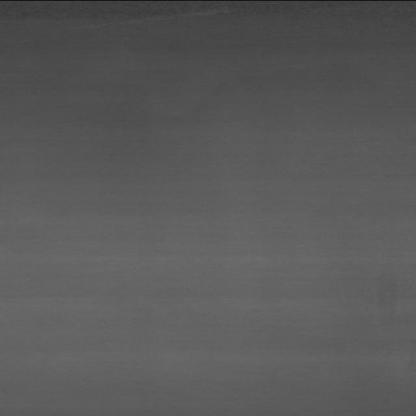oil_spot: (362, 267, 400, 310)
